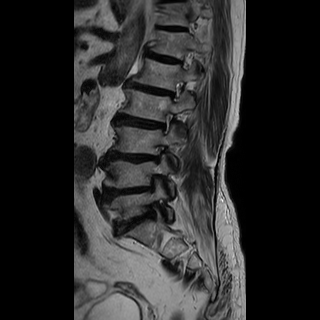LFS1: (165, 76, 188, 107)
LFS2: (155, 107, 178, 139)
LFS3: (149, 141, 172, 168)
